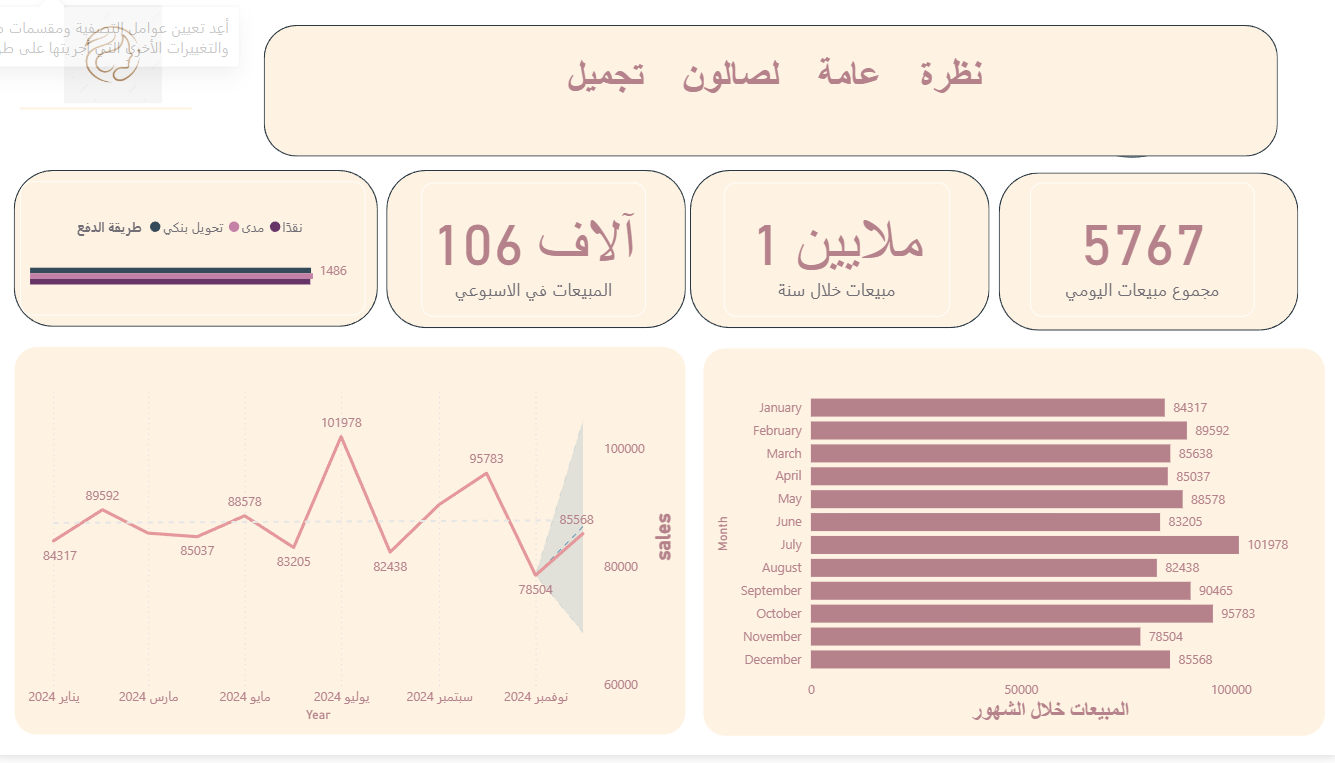

This screenshot's page, from the dashboard's own definition file:
{"tool":"powerbi","page":{"name":"نظرة عامة","canvas":[1280,720],"ordinal":1},"visuals":[{"type":"shape","box":[1017,30.2,135.1,120.6],"z":0},{"type":"image","box":[106.2,18.1,136.3,103.8],"z":1000},{"type":"shape","box":[18.1,161.7,347.5,149.6],"z":2000},{"type":"shape","box":[257,24.1,967.6,125.5],"z":3000},{"type":"textbox","box":[541.7,47.1,416.2,76],"z":4000},{"type":"shape","box":[957.9,164.1,285.9,150.8],"z":5000},{"type":"shape","box":[663.5,161.7,285.9,150.8],"z":6000},{"type":"shape","box":[372.8,161.7,285.9,150.8],"z":7000},{"type":"card","fields":{"Values":["Sum(Table1.week-number)"]},"box":[406.6,173.7,214.7,127.9],"z":8000},{"type":"card","fields":{"Values":["Sum(Table1.التاريخ.Variation.Date Hierarchy.Day)"]},"box":[986.9,173.7,214.7,127.9],"z":9000},{"type":"card","fields":{"Values":["Table1.مبيعات الشهور"]},"box":[694.9,173.7,216,127.9],"z":10000},{"type":"shape","box":[78.4,47.1,164.1,149.6],"z":11000},{"type":"barChart","title":"عدد الحجوزات لكل خدمة","fields":{"Category":["Table1.التاريخ.Variation.Date Hierarchy.Month"],"Y":["Sum(Table1.المبيعات (ريال))"]},"box":[674.8,331.1,594.1,371],"z":12000},{"type":"clusteredBarChart","title":"طرق الدفع أكثر إستخداما","fields":{"Y":["CountNonNull(Table1.العميلة)"],"Series":["Table1.طريقة الدفع"]},"box":[24.1,172.5,329.4,127.9],"z":14000},{"type":"lineChart","title":"البيع خلال الشهور ","fields":{"Y":["Table1.sales"],"Category":["Table1.التاريخ.Variation.Date Hierarchy.Year","Table1.التاريخ.Variation.Date Hierarchy.Month"]},"box":[18.1,330.6,641.8,371.6],"z":17000}]}

Visuals, with their boxes in screenshot pixels (x1, y1, x2, y2), scaled from the page's 1280x720 canvas onto the 1335x763 screenshot:
shape: 1061/32/1202/160
image: 111/19/253/129
shape: 19/171/381/330
shape: 268/26/1277/159
textbox: 565/50/999/130
shape: 999/174/1297/334
shape: 692/171/990/331
shape: 389/171/687/331
card - Sum(Table1.week-number): 424/184/648/320
card - Sum(Table1.التاريخ.Variation.Date Hierarchy.Day): 1029/184/1253/320
card - Table1.مبيعات الشهور: 725/184/950/320
shape: 82/50/253/208
"عدد الحجوزات لكل خدمة" barChart: 704/351/1323/744
"طرق الدفع أكثر إستخداما" clusteredBarChart: 25/183/369/318
"البيع خلال الشهور " lineChart: 19/350/688/744
